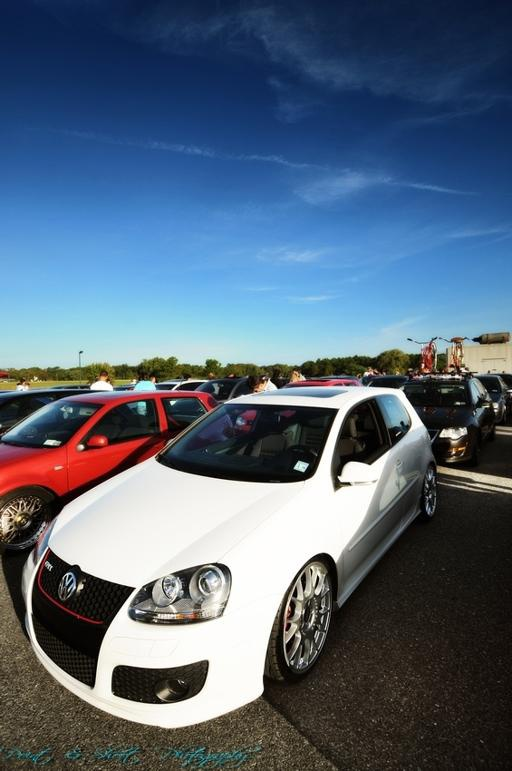non-vehicle: (440, 336, 469, 374), (409, 337, 437, 375)
